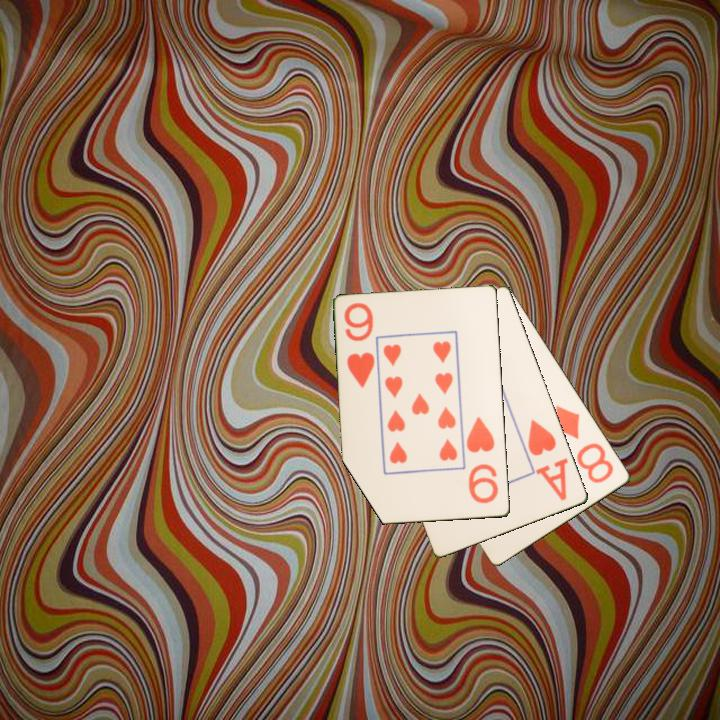8d: (552, 402, 617, 486)
9h: (463, 413, 501, 507), (341, 299, 378, 391)
Ah: (524, 416, 571, 504)
